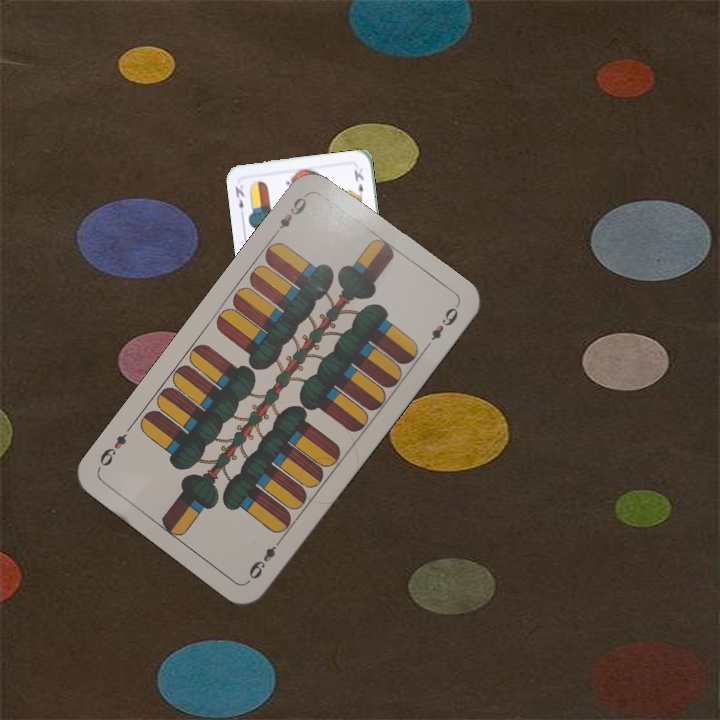E9: (244, 534, 286, 583), (269, 193, 310, 239)
EK: (231, 181, 247, 211)
